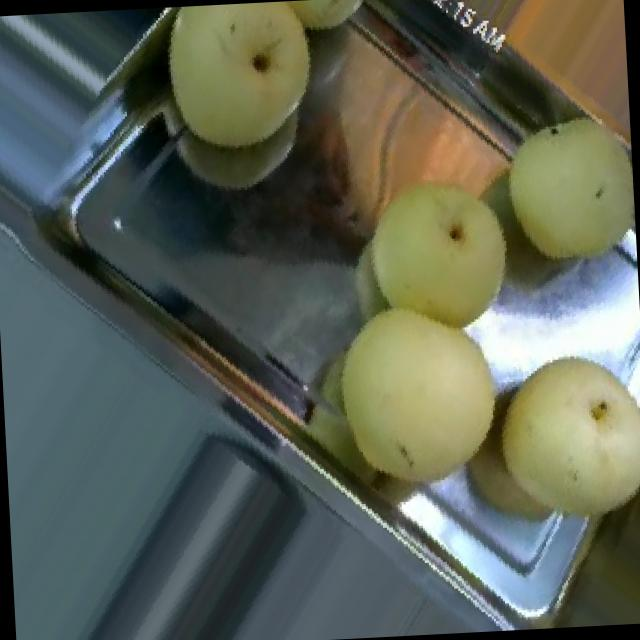Fruit: (300, 282, 520, 508), (445, 335, 640, 559), (159, 0, 348, 183), (476, 90, 638, 286), (477, 0, 633, 184)
